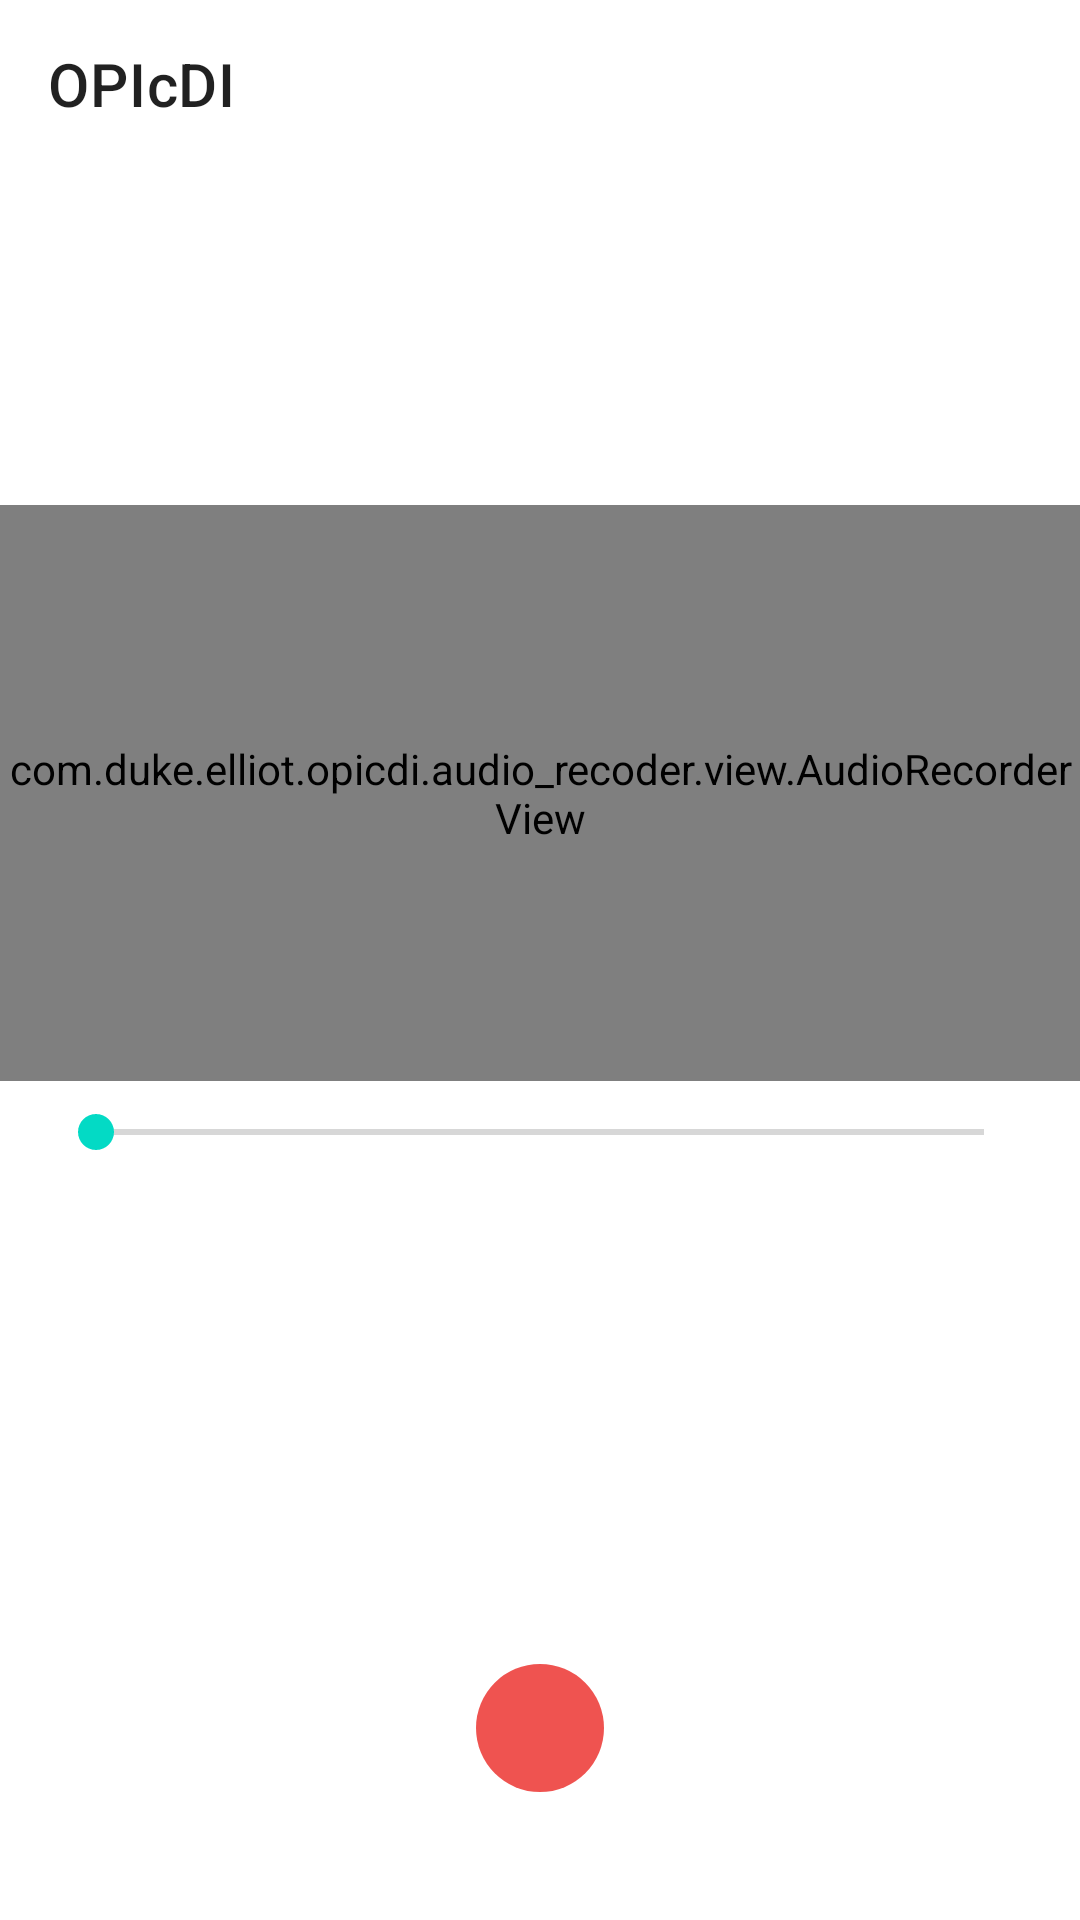

Named icons in this screenshot (1080*1920) and their bounding boxes, (left=x1, top=y1, right=x2, bottom=y2):
fiber manual record: (left=476, top=1664, right=604, bottom=1792)
